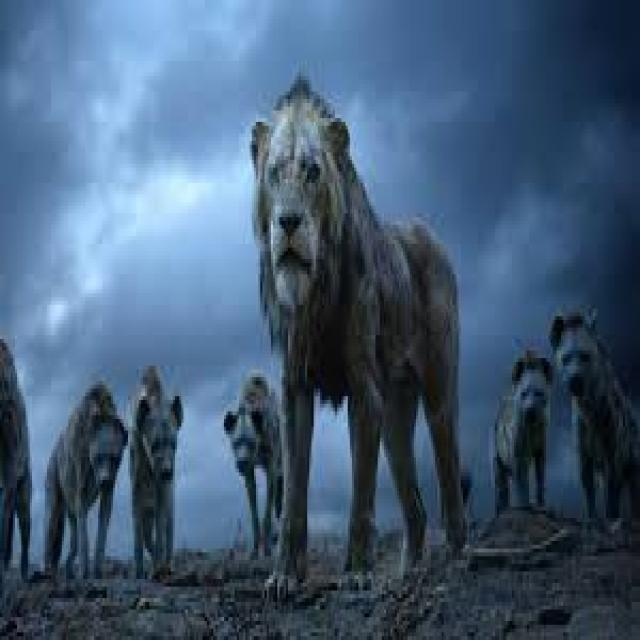Lion: (249, 81, 467, 587)
